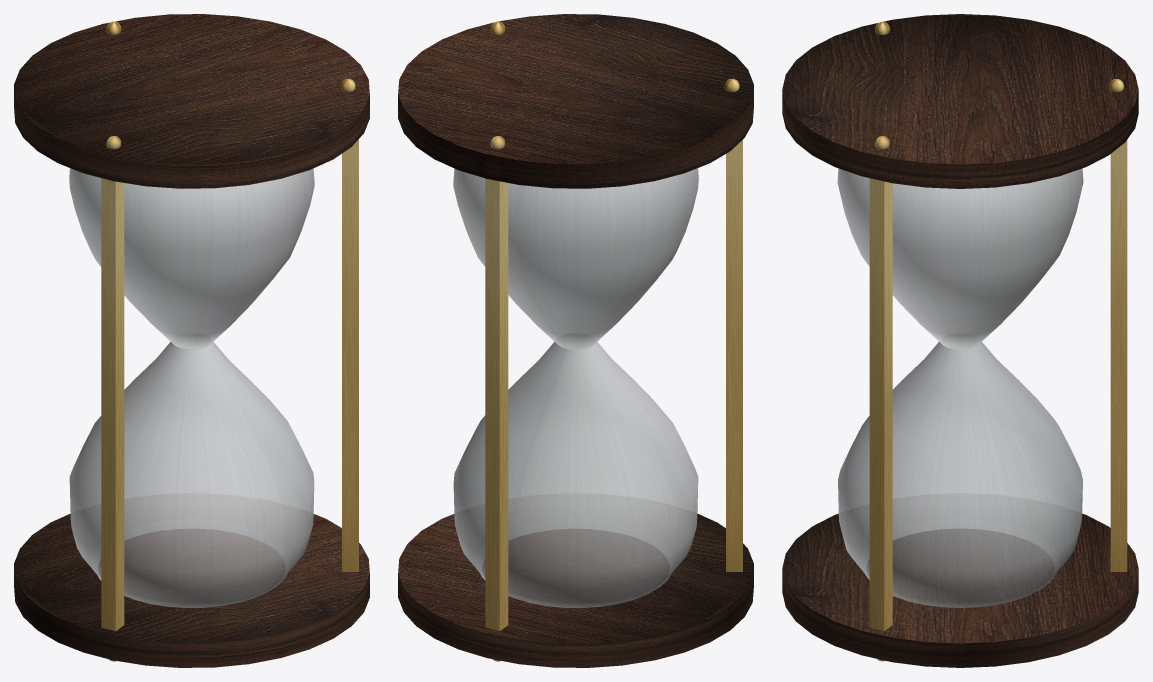
Rendered from sand clock.fbx.
3 renders of one model, left to right at view 1: azimuth 30°, elevation 25°; view 2: azimuth 150°, elevation 25°; view 3: azimuth 270°, elevation 25°, orthographic.
Visible parts, largest first — view 1: Cylinder, Cylinder.002, Cylinder.001, Cylinder.003, Cube, Sphere; view 2: Cylinder, Cylinder.002, Cylinder.001, Cylinder.003, Cube, Sphere; view 3: Cylinder, Cylinder.002, Cylinder.001, Cylinder.003, Cube, Sphere.
Part boxes in pixels (bbox=[...]): Cylinder: bbox=[14, 14, 369, 188]; Cylinder.002: bbox=[69, 342, 314, 607]; Cylinder.001: bbox=[14, 513, 369, 667]; Cylinder.003: bbox=[69, 168, 314, 349]; Cube: bbox=[101, 139, 358, 631]; Sphere: bbox=[106, 21, 355, 661]; Cylinder: bbox=[398, 14, 753, 188]; Cylinder.002: bbox=[453, 342, 698, 607]; Cylinder.001: bbox=[398, 513, 753, 667]; Cylinder.003: bbox=[453, 168, 698, 349]; Cube: bbox=[485, 140, 742, 631]; Sphere: bbox=[490, 21, 739, 661]; Cylinder: bbox=[782, 14, 1138, 188]; Cylinder.002: bbox=[838, 342, 1082, 607]; Cylinder.001: bbox=[782, 513, 1138, 667]; Cylinder.003: bbox=[837, 168, 1083, 349]; Cube: bbox=[869, 140, 1127, 630]; Sphere: bbox=[875, 21, 1123, 661].
Size of the model in its own units: 200 by 325 by 200.
3 materials, 3 textured.
